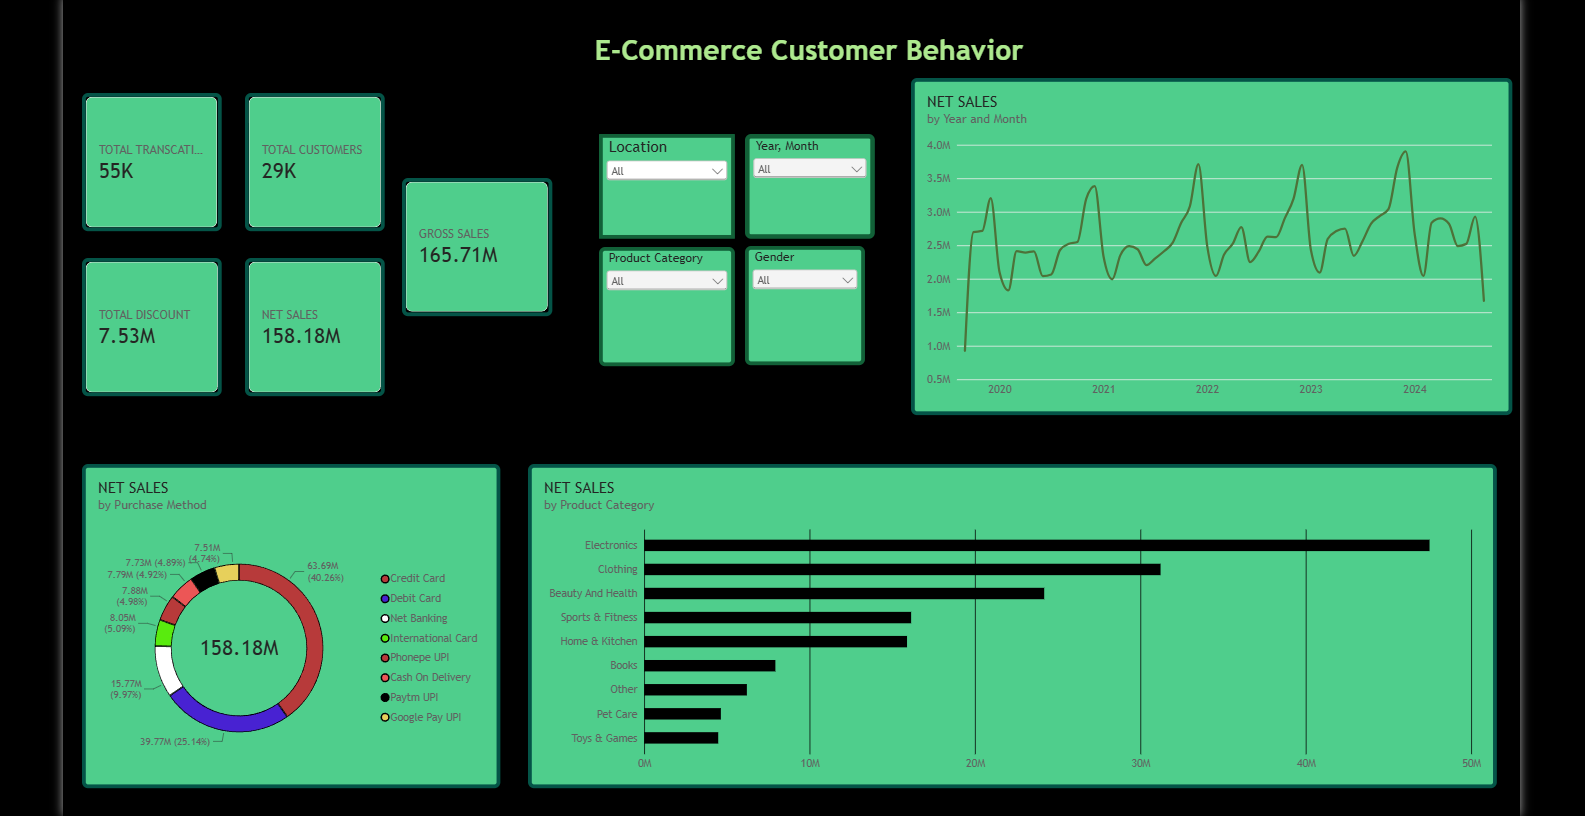

What the dashboard file says about the page in this screenshot:
{"tool":"powerbi","page":{"name":"sales dash","canvas":[1920,1080],"ordinal":0},"visuals":[{"type":"cardVisual","fields":{"Data":["Calculated data.total transation"]},"box":[25,127.8,183.8,182.4],"z":0},{"type":"cardVisual","fields":{"Data":["Calculated data.total customers"]},"box":[239.7,127.8,184,182],"z":1000},{"type":"cardVisual","fields":{"Data":["Calculated data.Measure"]},"box":[239.7,345.1,184,182],"z":2000},{"type":"cardVisual","fields":{"Data":["Calculated data.TOTAL DISCOUNT"]},"box":[25,345.1,184,182],"z":3000},{"type":"textbox","box":[0,0,1920.3,108],"z":4000},{"type":"lineChart","fields":{"Category":["Date Table.Date.Variation.Date Hierarchy.Year","Date Table.Date.Variation.Date Hierarchy.Month"],"Y":["Calculated data.NET SALES"]},"box":[1117,108.7,791.6,443.9],"z":5000},{"type":"barChart","fields":{"Category":["Calculated data.Product Category"],"Y":["Calculated data.NET SALES"]},"box":[612.4,616.4,1276.2,426.7],"z":6000},{"type":"donutChart","fields":{"Category":["Calculated data.Purchase Method"],"Y":["Calculated data.NET SALES"]},"box":[25,616.4,550.5,426.7],"z":7000},{"type":"cardVisual","fields":{"Data":["Calculated data.GROSS SALES"]},"box":[446.5,239.7,197.6,181.8],"z":8000},{"type":"slicer","fields":{"Values":["Calculated data.Location"]},"box":[706.3,181.5,178.9,137.8],"z":8002},{"type":"slicer","fields":{"Values":["Calculated data.Product Category"]},"box":[706.3,329.9,179,157],"z":8003},{"type":"slicer","fields":{"Values":["Calculated data.Gender"]},"box":[898.4,328.6,158,157],"z":8004},{"type":"slicer","fields":{"Values":["Date Table.Date.Variation.Date Hierarchy.Year","Date Table.Date.Variation.Date Hierarchy.Month"]},"box":[898.4,181.5,170.9,137.8],"z":8005}]}

Visuals, with their boxes in screenshot pixels (x1, y1, x2, y2):
cardVisual - Calculated data.total transation: left=81, top=100, right=218, bottom=236
cardVisual - Calculated data.total customers: left=241, top=100, right=378, bottom=235
cardVisual - Calculated data.Measure: left=241, top=262, right=378, bottom=397
cardVisual - Calculated data.TOTAL DISCOUNT: left=81, top=262, right=218, bottom=397
textbox: left=62, top=4, right=1495, bottom=85
lineChart - Date Table.Date.Variation.Date Hierarchy.Year x Date Table.Date.Variation.Date Hierarchy.Month: left=895, top=85, right=1486, bottom=417
barChart - Calculated data.Product Category x Calculated data.NET SALES: left=519, top=464, right=1471, bottom=783
donutChart - Calculated data.Purchase Method x Calculated data.NET SALES: left=81, top=464, right=491, bottom=783
cardVisual - Calculated data.GROSS SALES: left=395, top=183, right=543, bottom=319
slicer - Calculated data.Location: left=589, top=140, right=723, bottom=242
slicer - Calculated data.Product Category: left=589, top=250, right=723, bottom=367
slicer - Calculated data.Gender: left=732, top=249, right=850, bottom=367
slicer - Date Table.Date.Variation.Date Hierarchy.Year x Date Table.Date.Variation.Date Hierarchy.Month: left=732, top=140, right=860, bottom=242
